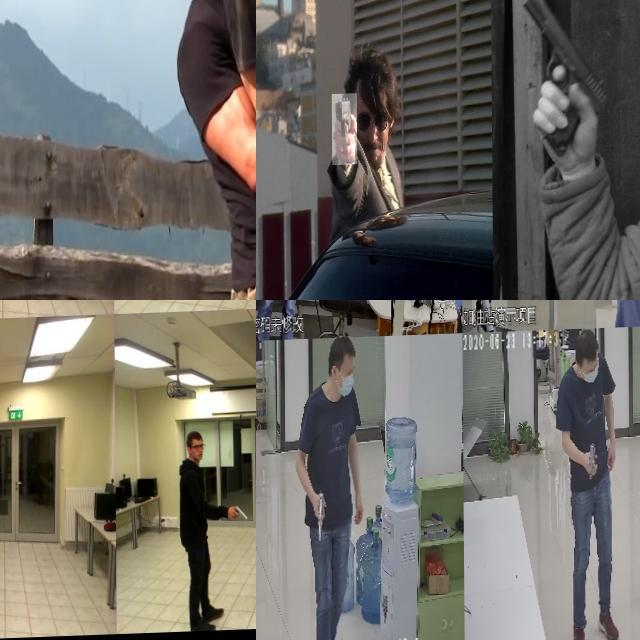gun-knife-thesis - v11 Yolov5 augmented: (511, 0, 616, 171), (332, 95, 357, 167), (311, 488, 324, 542), (615, 300, 635, 334), (582, 442, 596, 485), (223, 500, 247, 524), (0, 508, 12, 532), (271, 300, 281, 316), (0, 300, 8, 309)
